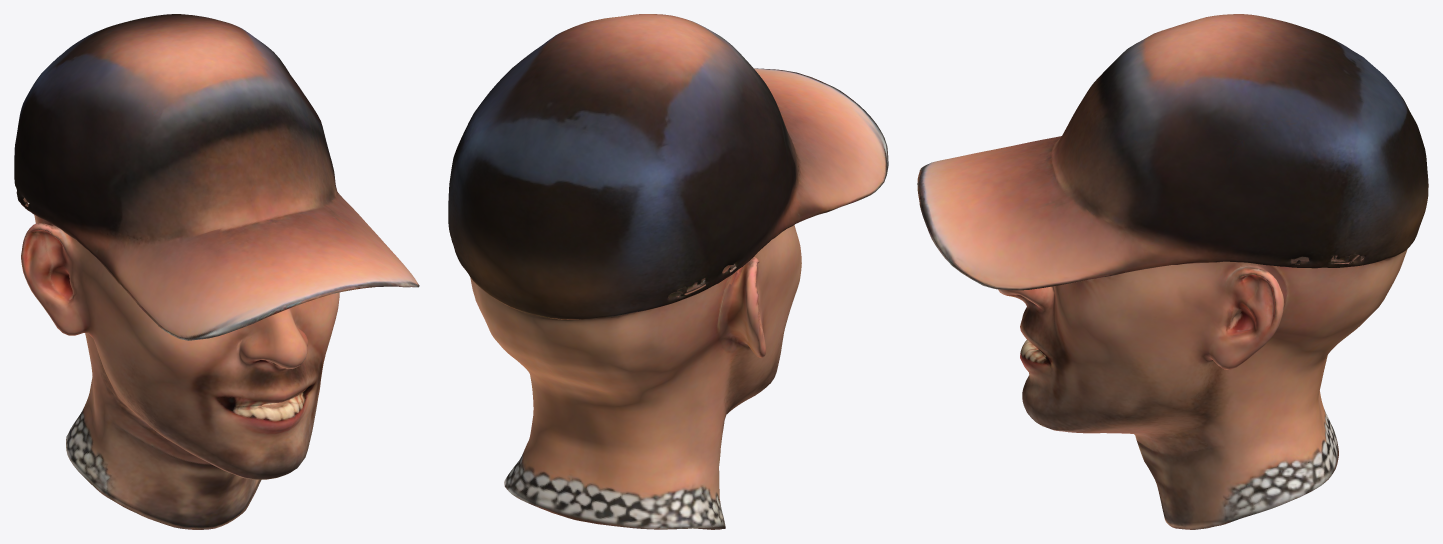
Rendered from Smiling_Portrait_1123072412.glb.
The picture shows the model from 3 angles, left to right: view 1: azimuth 30°, elevation 25°; view 2: azimuth 150°, elevation 25°; view 3: azimuth 270°, elevation 25°; orthographic projection. The views are drawn at different scales.
Size of the model in its own units: 1.24 by 1.99 by 1.91.
1 material, 1 textured.
